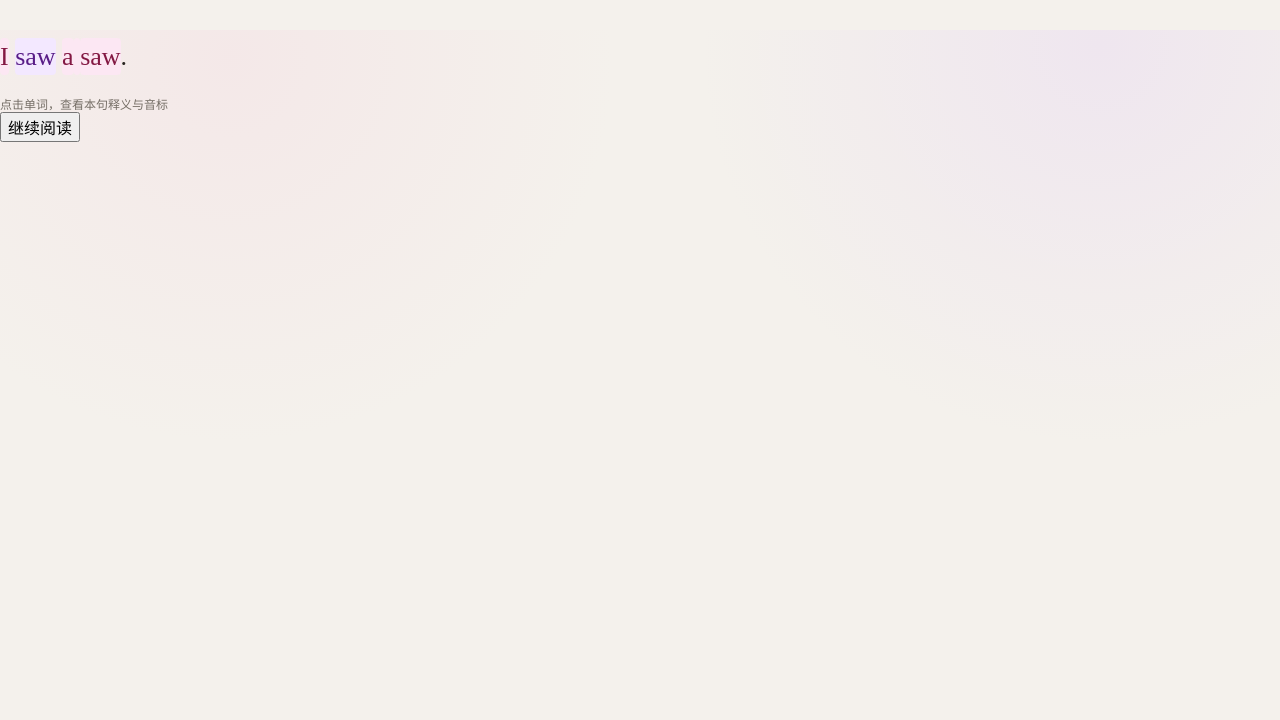
Test: does not steal focus when a lookup finishes after the user tabs away
The image size is (1280, 720).
Click the button with aria-label "查询 saw".
click(35, 57)  # box [15,30,56,85]
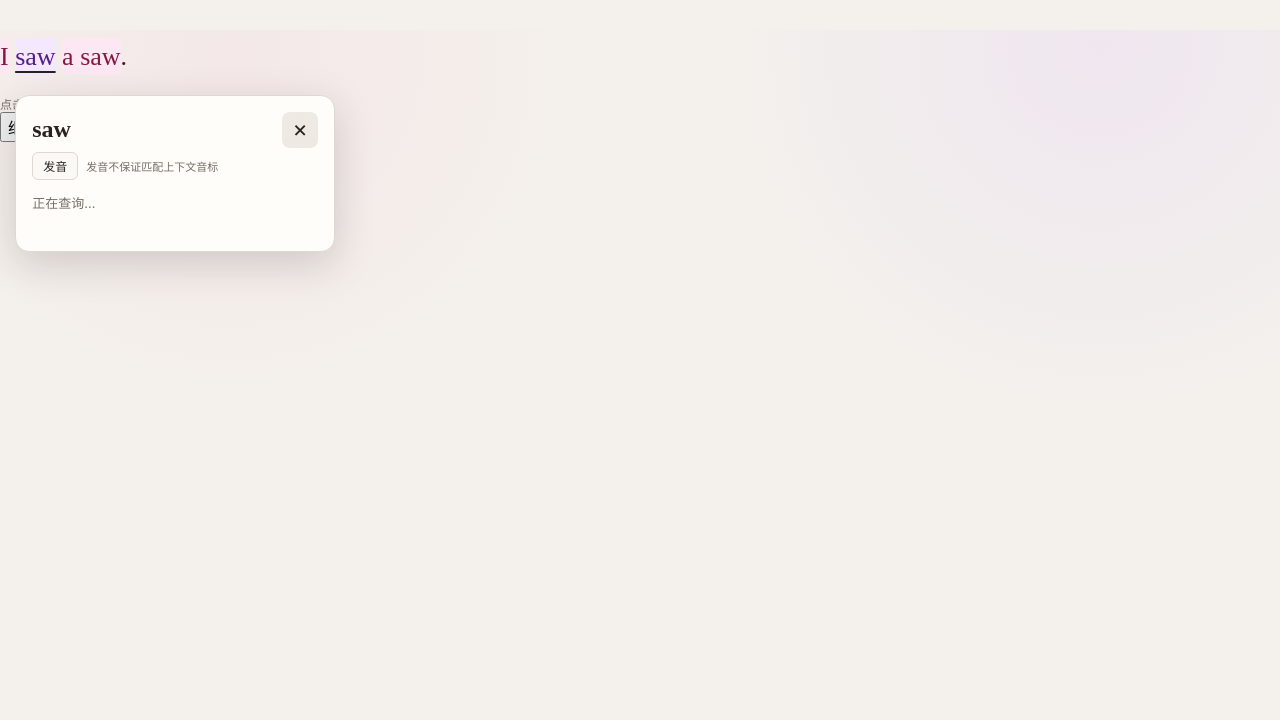
Press Shift+Tab
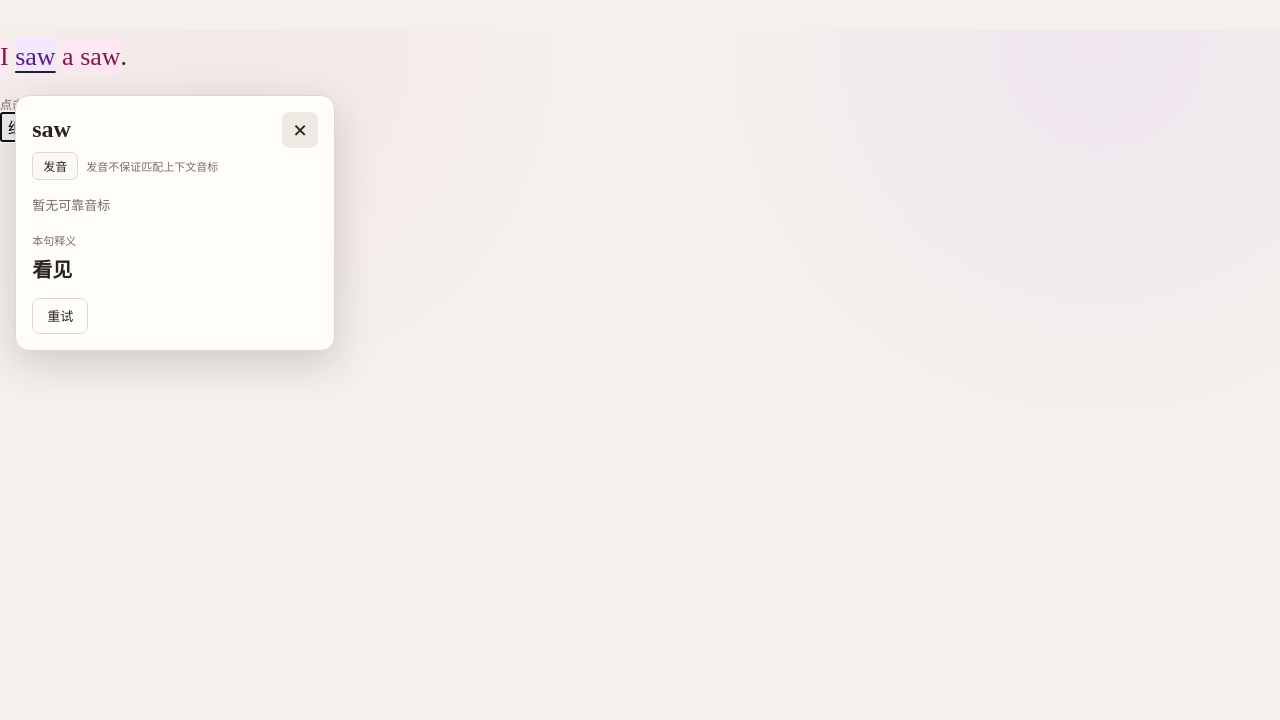
Now the text "看见" is shown, box [32,258,72,282]
